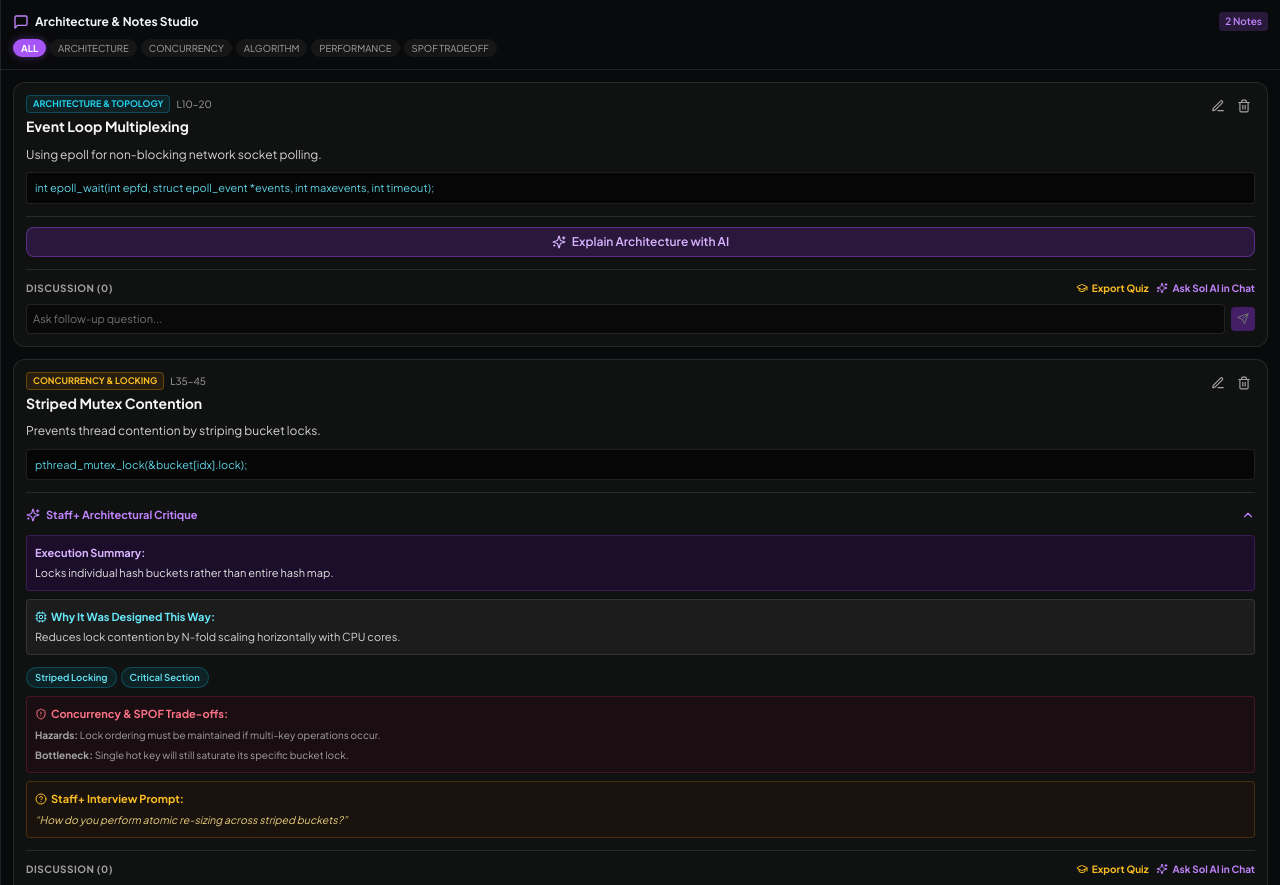
Test: AnnotationDock › allows editing annotation title and content in-place
Click the button with test id "edit-annotation-ANN-101": (1218, 106) [1207,95,1229,117]
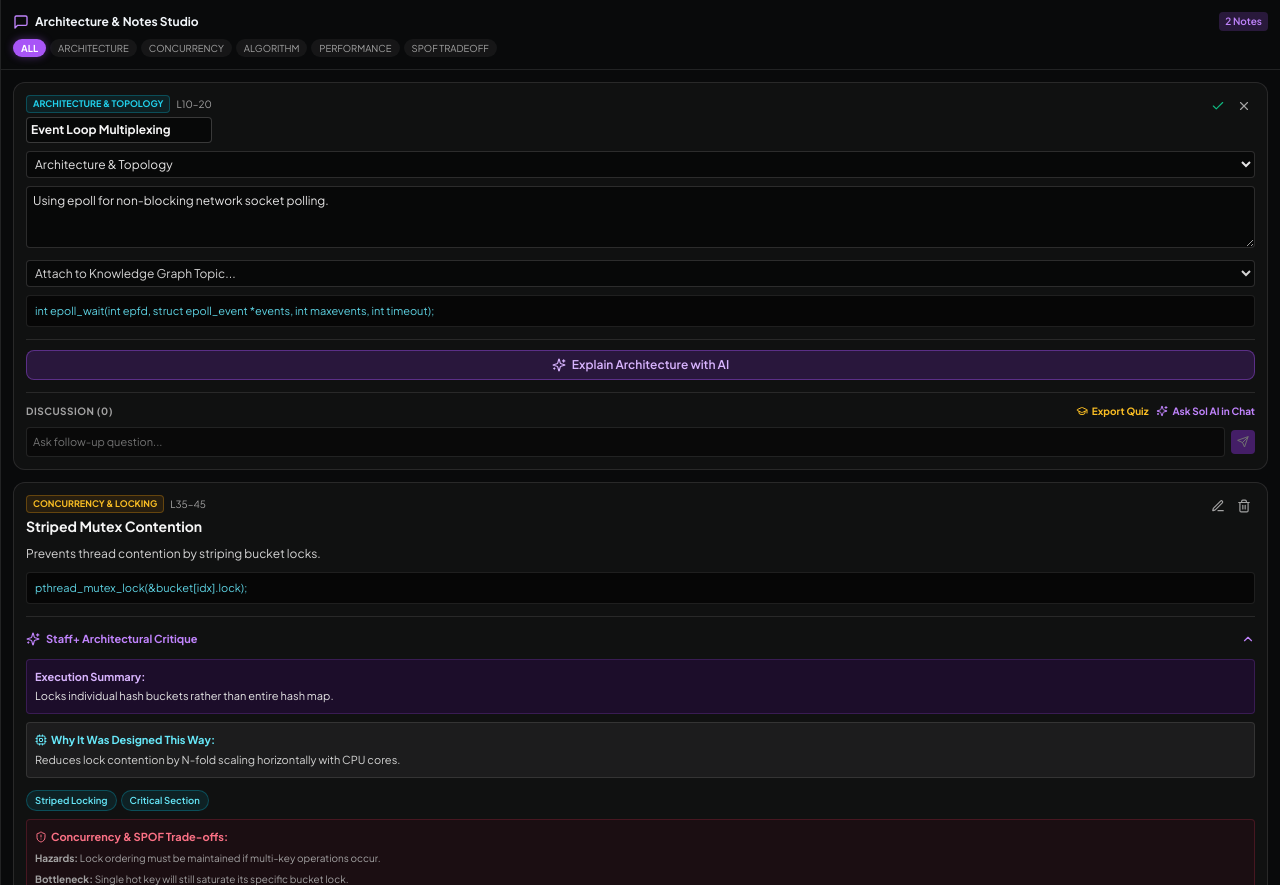
Replace the text in the field showing "Event Loop Multiplexing" with "Reactor Pattern Multiplexing": (119, 130) [26,117,212,143]
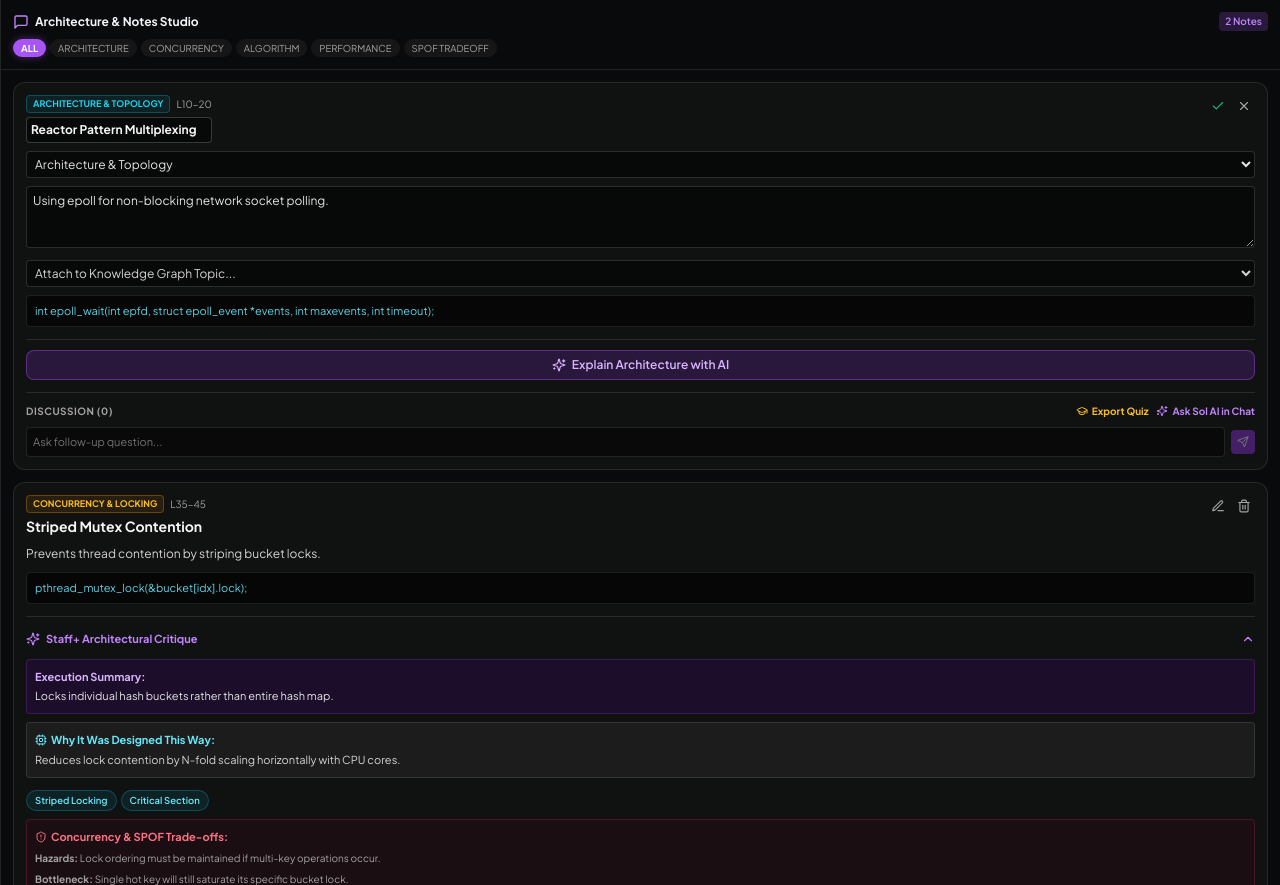
Click the button titled "Save Changes": (1218, 106) [1207,95,1229,117]
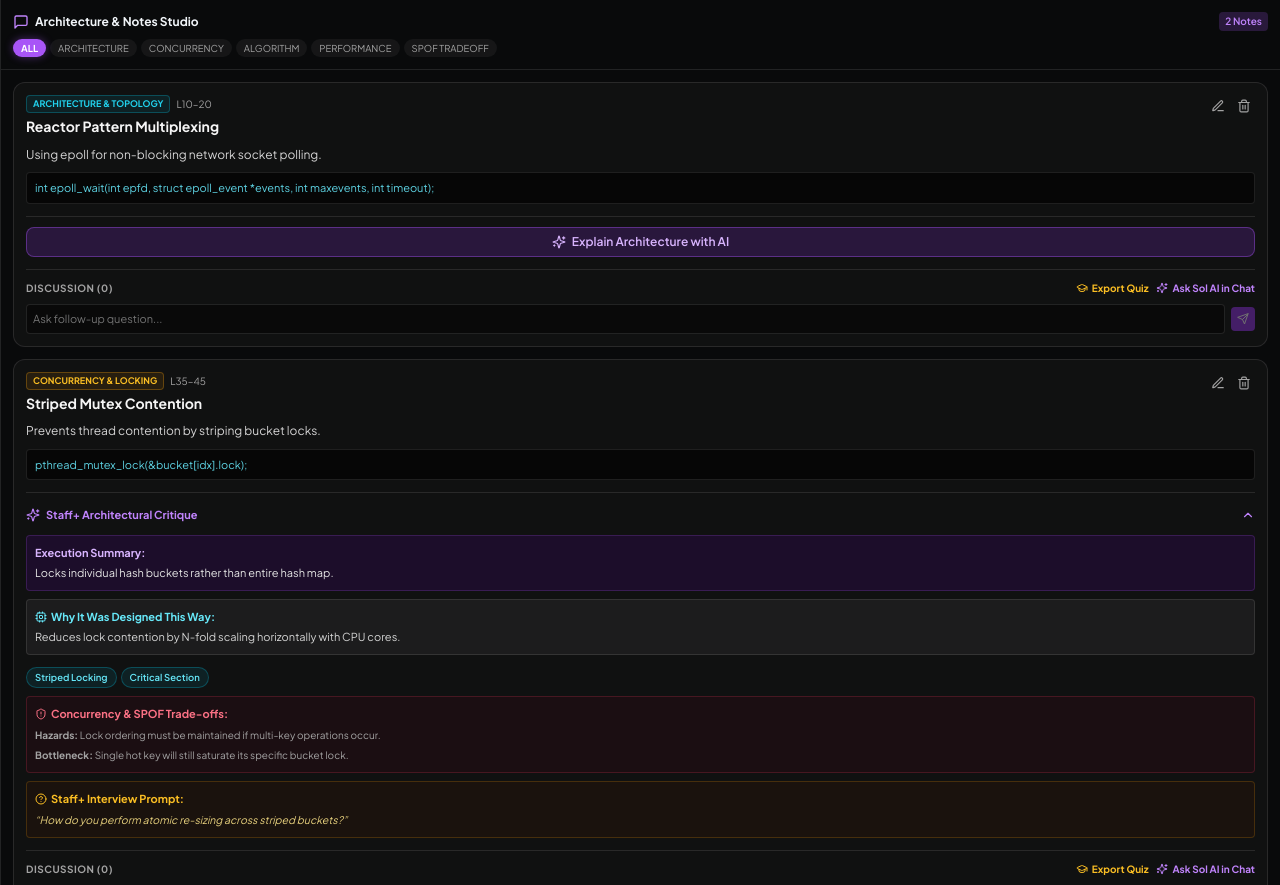
Expected: the heading "Reactor Pattern Multiplexing" is shown, [26,117,219,137]
